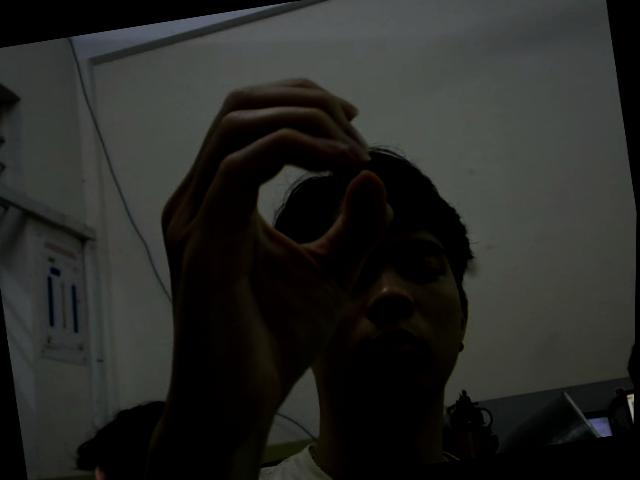C: (136, 62, 425, 431)
